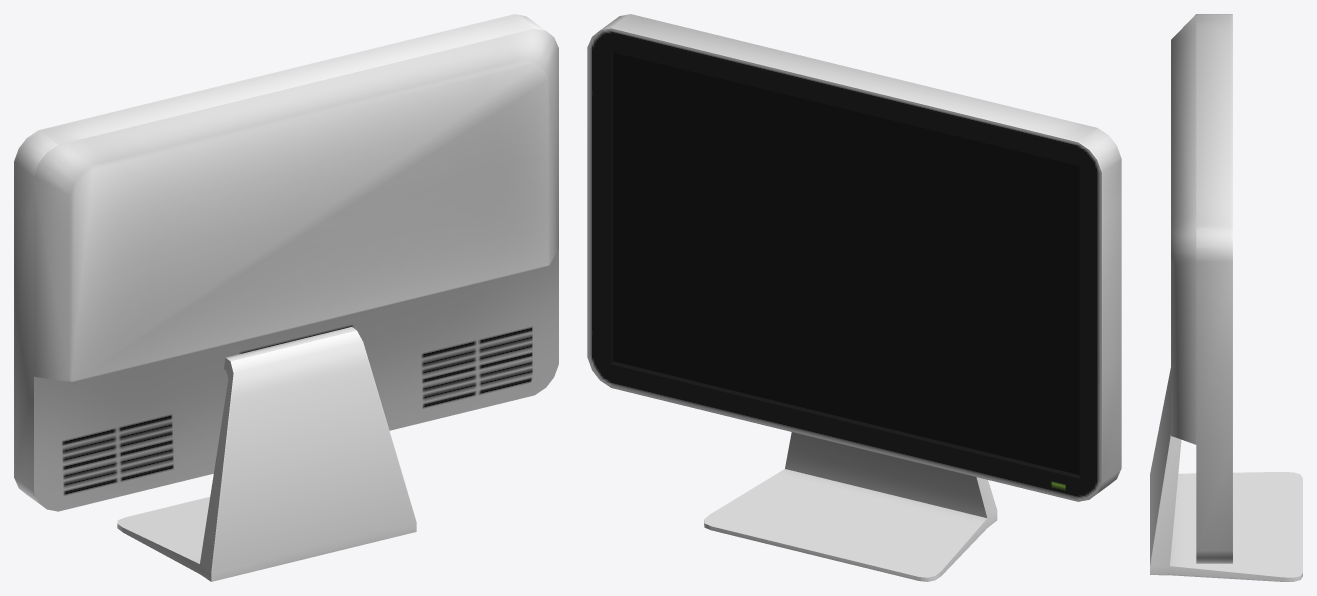
The model's file is ELT0110017.fbx.
The picture shows the model from 3 angles, left to right: view 1: azimuth 30°, elevation 25°; view 2: azimuth 150°, elevation 25°; view 3: azimuth 270°, elevation 25°; orthographic projection. The views are drawn at different scales.
Parts seen in each view (by area): view 1: smELT0110017; view 2: smELT0110017; view 3: smELT0110017.
Boxes of the visible parts, x1,y1,x2,y2 form: smELT0110017: (14, 14, 558, 581); smELT0110017: (587, 14, 1121, 581); smELT0110017: (1150, 14, 1302, 581).
Bounding box in the file's own units: 74.4 × 60.92 × 20.5.
Materials: 1 (1 with a texture image).
